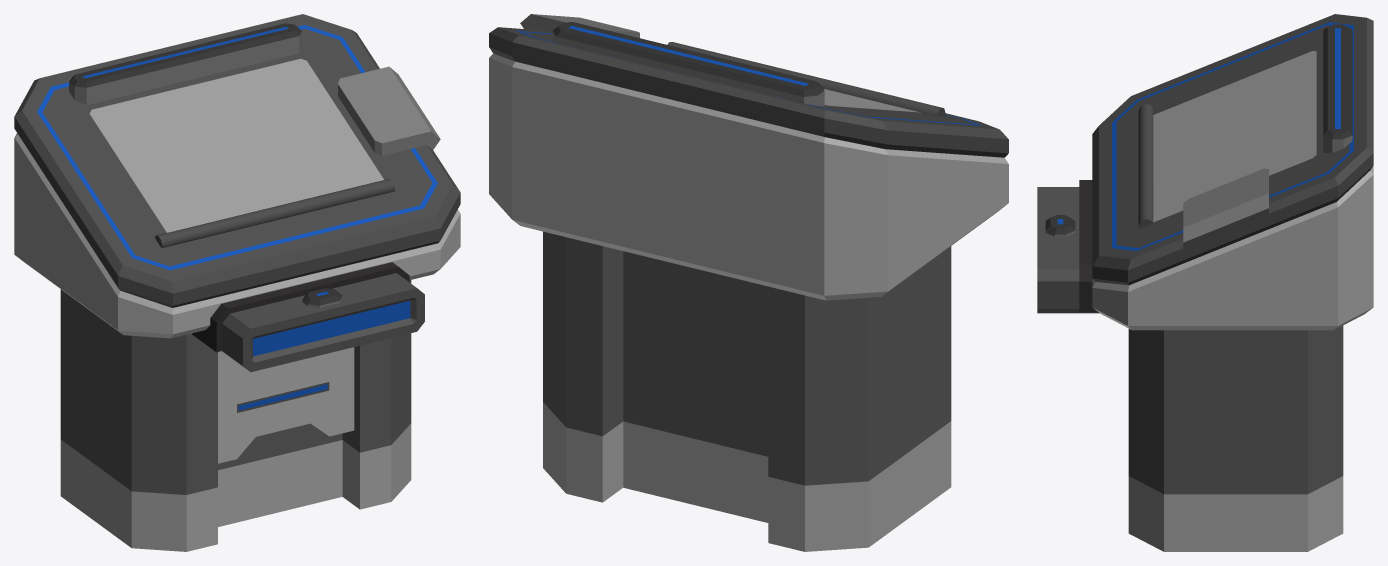
The model's file is Terminal_009.fbx.
The picture shows the model from 3 angles, left to right: view 1: azimuth 30°, elevation 25°; view 2: azimuth 150°, elevation 25°; view 3: azimuth 270°, elevation 25°; orthographic projection. The views are drawn at different scales.
Parts seen in each view (by area): view 1: Terminal_009; view 2: Terminal_009; view 3: Terminal_009.
Part boxes in pixels (x1,y1,x2,y2): Terminal_009: (14,14,460,551); Terminal_009: (489,14,1008,551); Terminal_009: (1037,14,1373,551).
Size of the model in its own units: 111 by 91.31 by 121.
